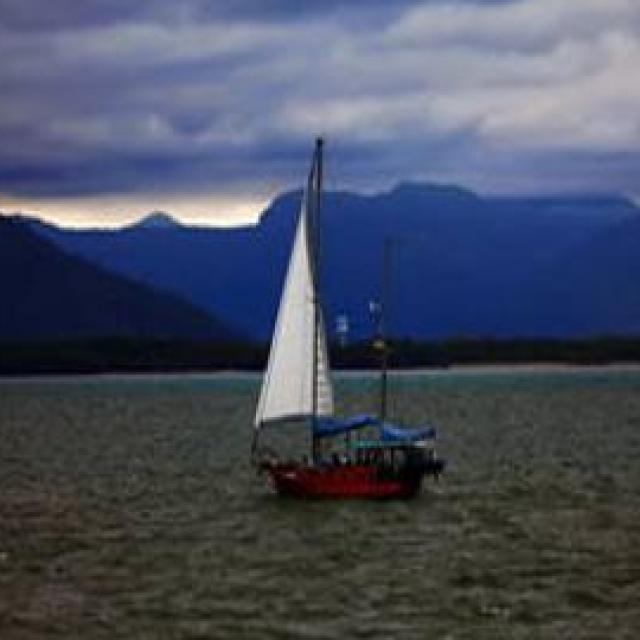sailboat: (245, 132, 448, 498)
